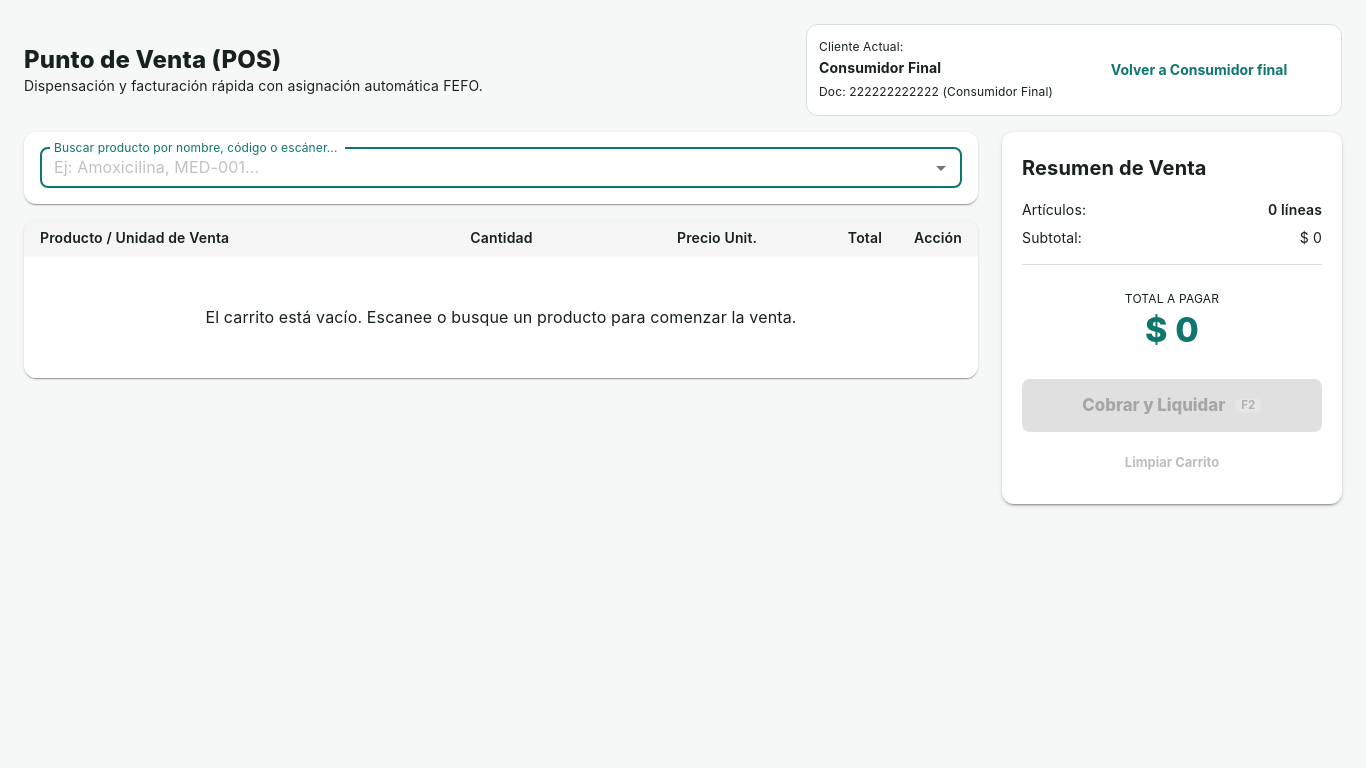
Test: PosPage (Frontend POS UX-03 / HU-017) › AUD-003: reintentar tras un fallo de red reutiliza la misma Idempotency-Key
Expected: the heading "Consumidor Final" is shown, x1=819 y1=59 x2=941 y2=76
In the dropdown labelled "Buscar producto por nombre, código o escáner...": (484, 168) x1=46 y1=154 x2=923 y2=182, type "Acetaminofén"
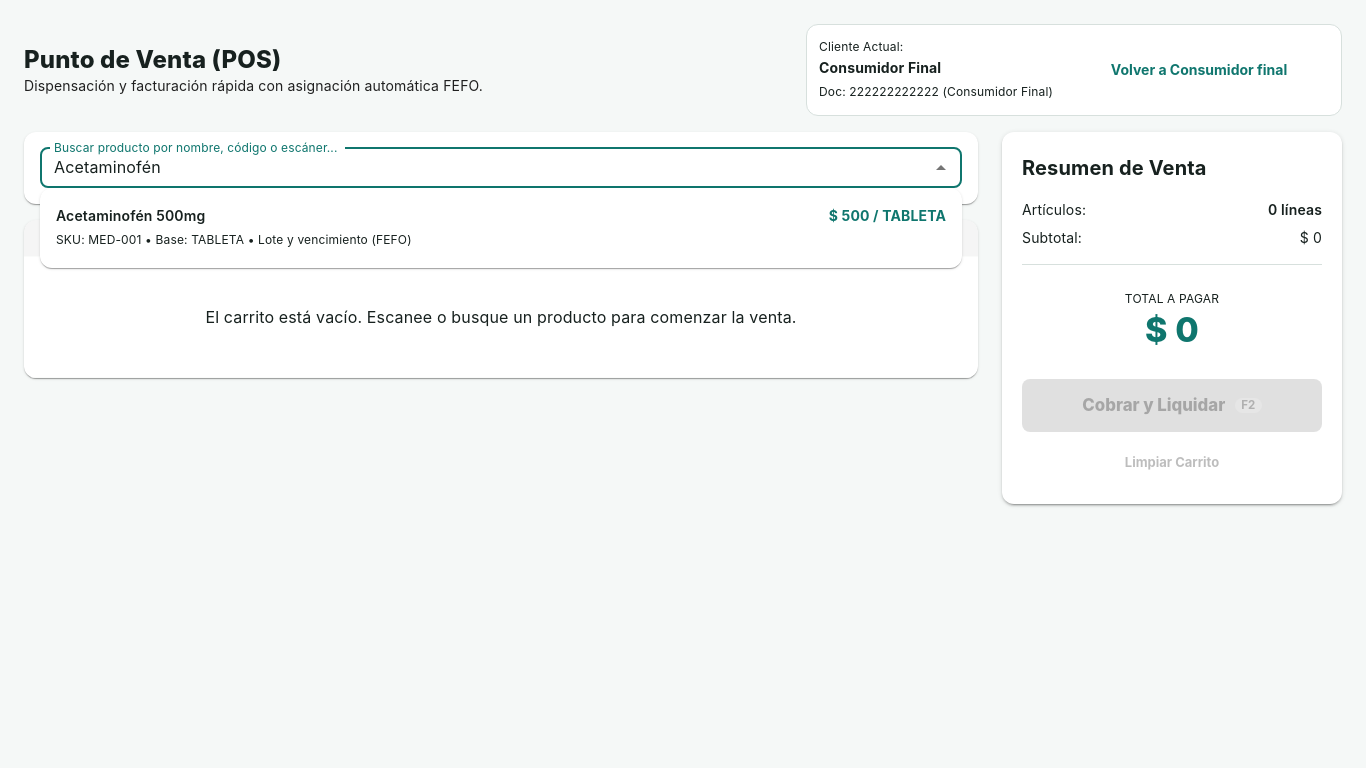
Click the option: (131, 216) x1=40 y1=196 x2=962 y2=260
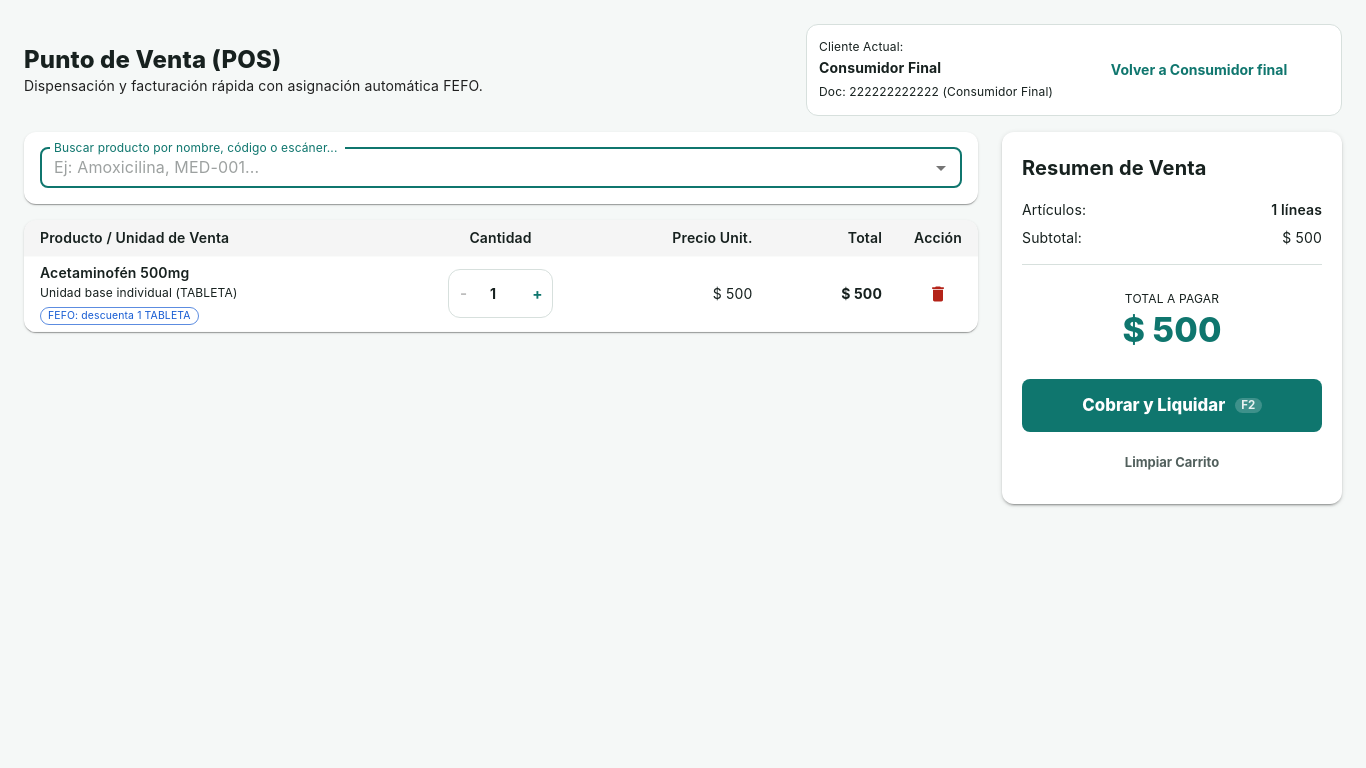
Now the text "Acetaminofén 500mg" is shown, box x1=40 y1=264 x2=189 y2=281
Click the button "Cobrar y Liquidar F2": (1172, 406) x1=1022 y1=379 x2=1322 y2=432
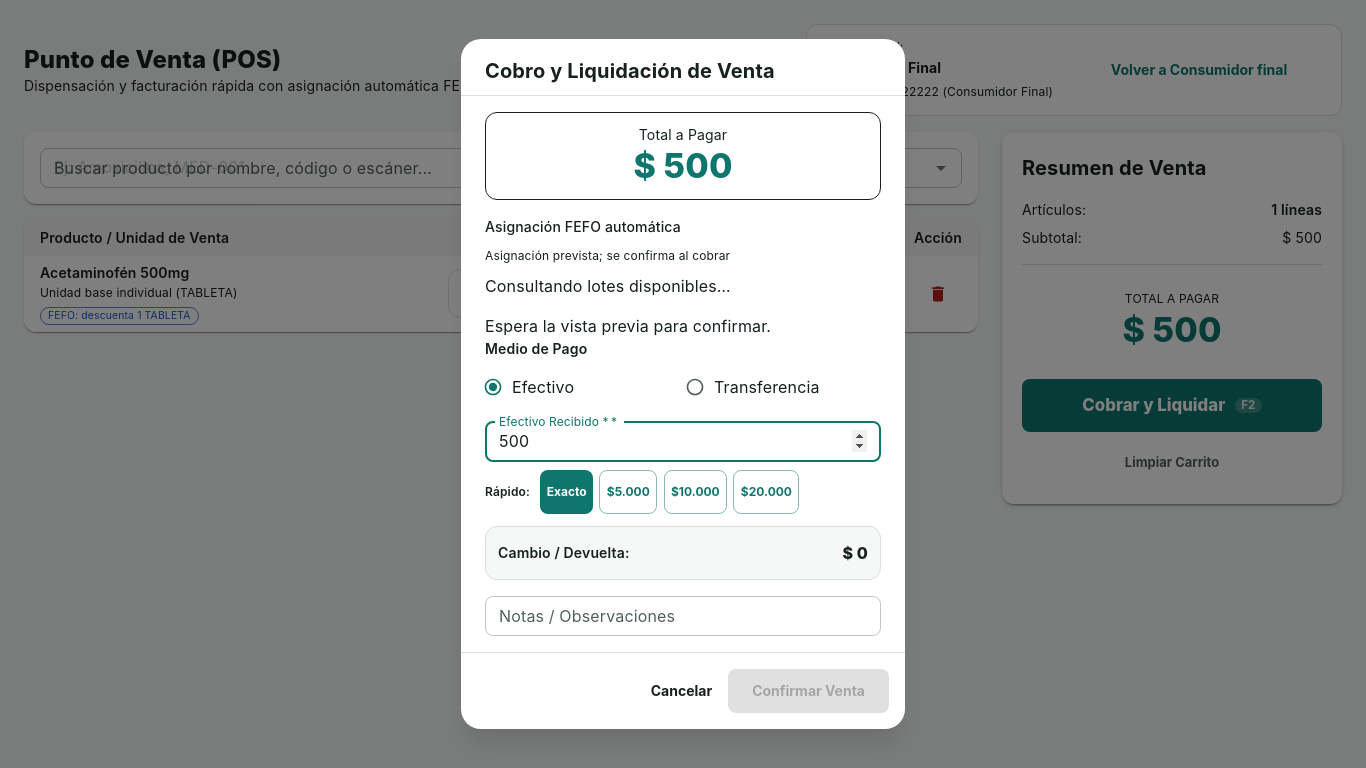
Now the heading "Cobro y Liquidación de Venta" is shown, box x1=485 y1=59 x2=775 y2=83
Replace the text in the number field labelled "Efectivo Recibido * *" with "2000": (683, 442) x1=485 y1=422 x2=881 y2=462
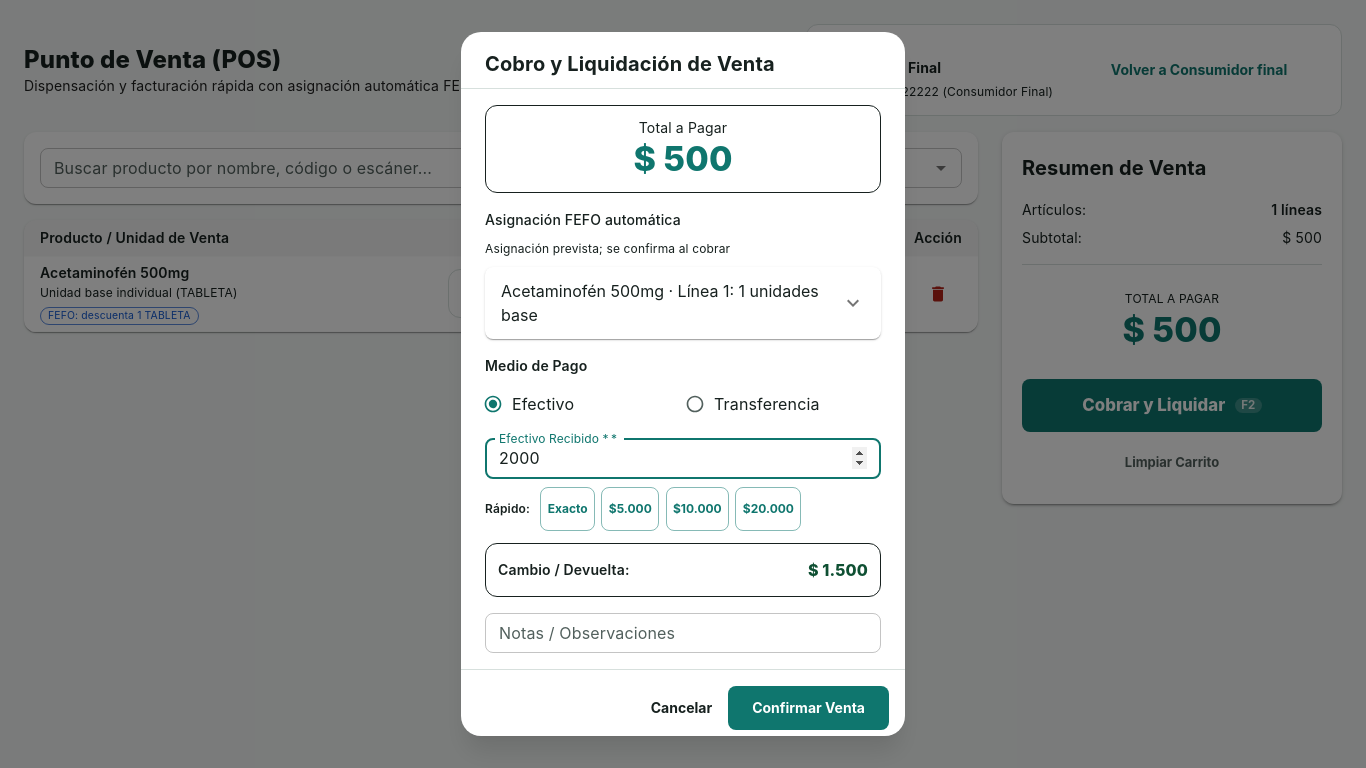
Now the button with test id "confirm-payment-btn" is enabled
Note: Primer intento: falla la red y el diálogo sigue abierto
Click the button with test id "confirm-payment-btn": (809, 708) x1=728 y1=686 x2=889 y2=730
(page scrolled)
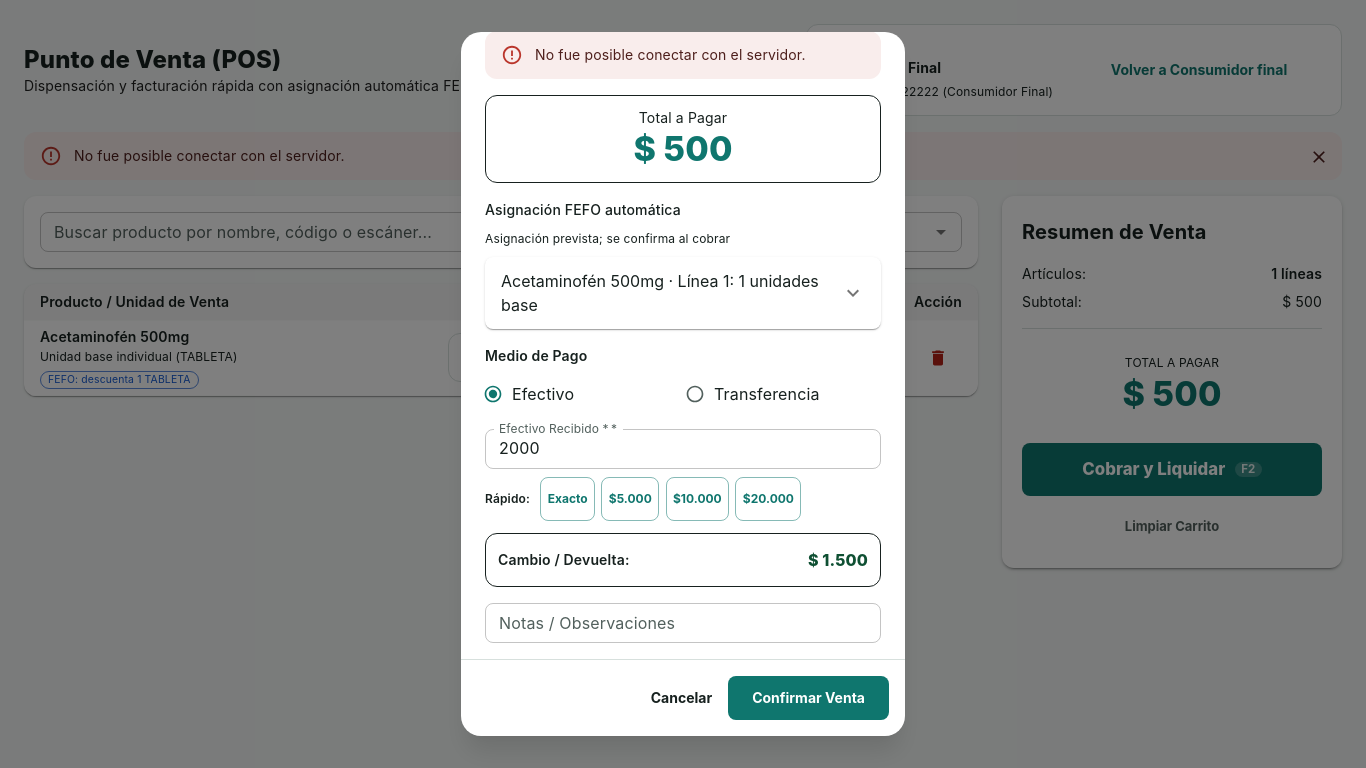
Now the button with test id "confirm-payment-btn" is enabled
Note: Reintento con el mismo contenido
Click the button with test id "confirm-payment-btn": (809, 698) x1=728 y1=676 x2=889 y2=720
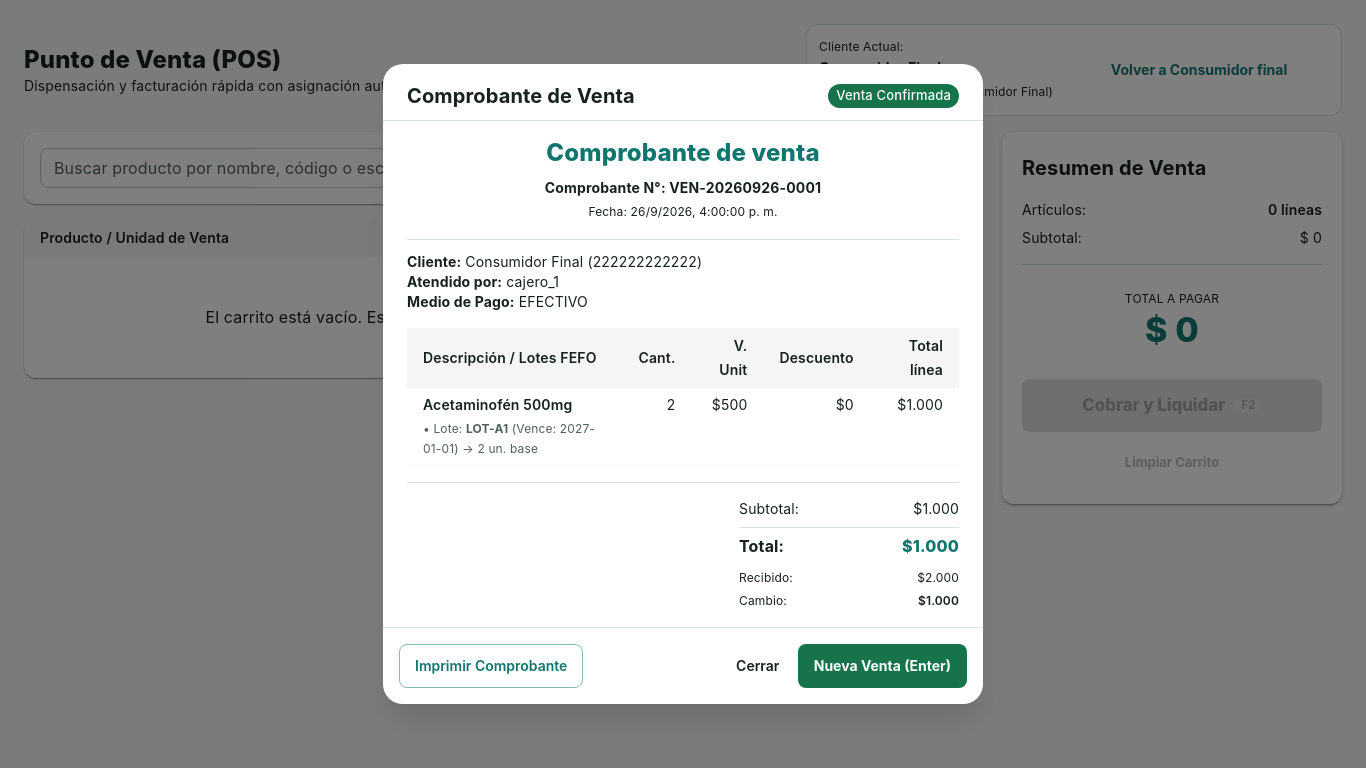
Now the heading "Comprobante N°: VEN-20260926-0001" is shown, box x1=545 y1=179 x2=821 y2=196
